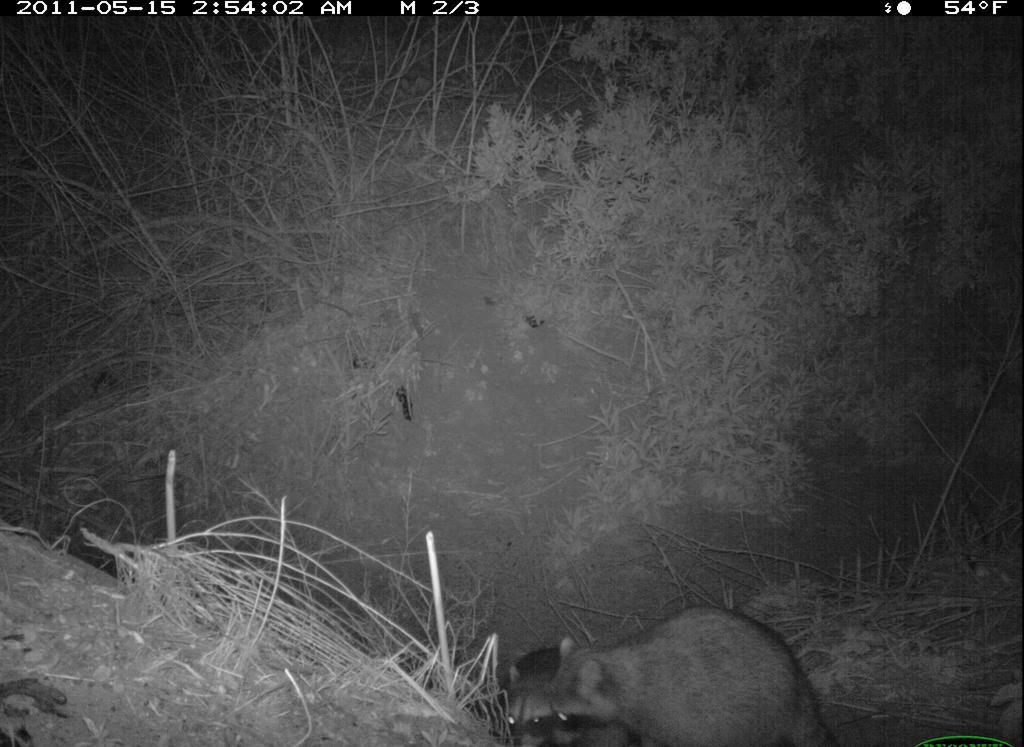raccoon: (495, 598, 841, 745)
